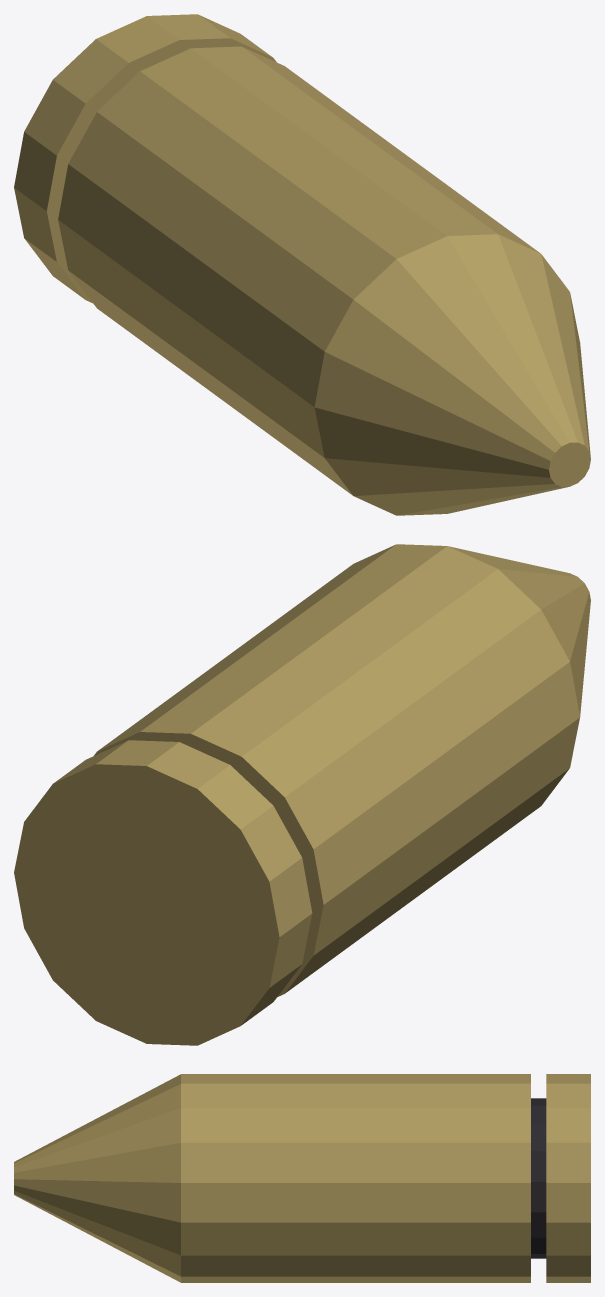
Rendered from Bullet.fbx.
3 views of the same model, one above another, from view 1: azimuth 30°, elevation 25°; view 2: azimuth 150°, elevation 25°; view 3: azimuth 270°, elevation 25° (orthographic). The views are drawn at different scales.
Parts seen in each view (by area): view 1: Cylinder.006; view 2: Cylinder.006; view 3: Cylinder.006.
Boxes of the visible parts, x1=… form: Cylinder.006: x1=14, y1=14, x2=590, y2=515; Cylinder.006: x1=14, y1=544, x2=590, y2=1045; Cylinder.006: x1=14, y1=1074, x2=590, y2=1282.
Size of the model in its own units: 4.78 by 4.78 by 13.21.
